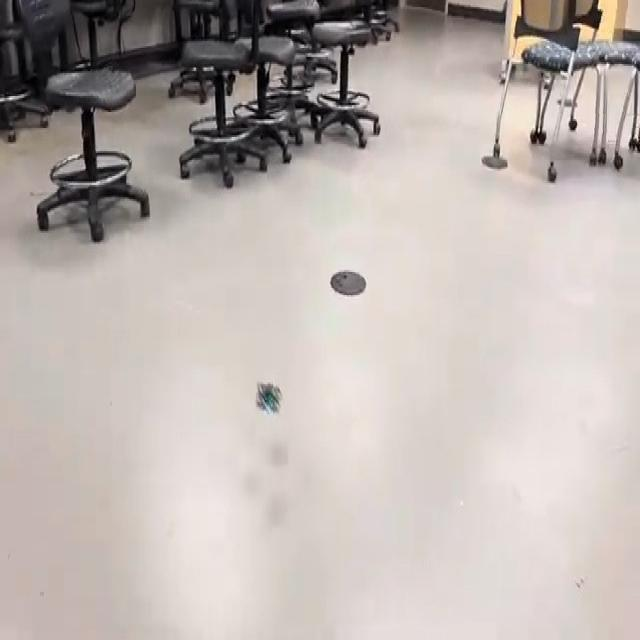drone: (246, 360, 292, 427)
